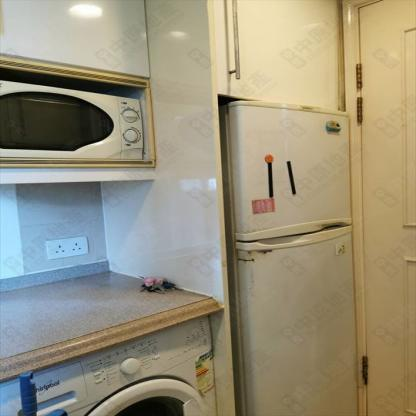Cupboard: (211, 1, 346, 111), (5, 0, 149, 78)
Fridge: (224, 99, 361, 415)
Microwave: (0, 79, 144, 157)
Washing Machine: (7, 313, 221, 415)
